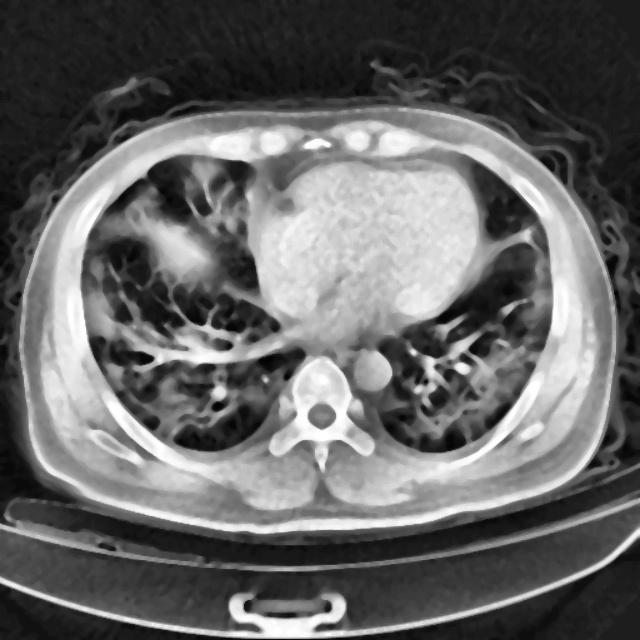covid: (13, 93, 620, 543)
